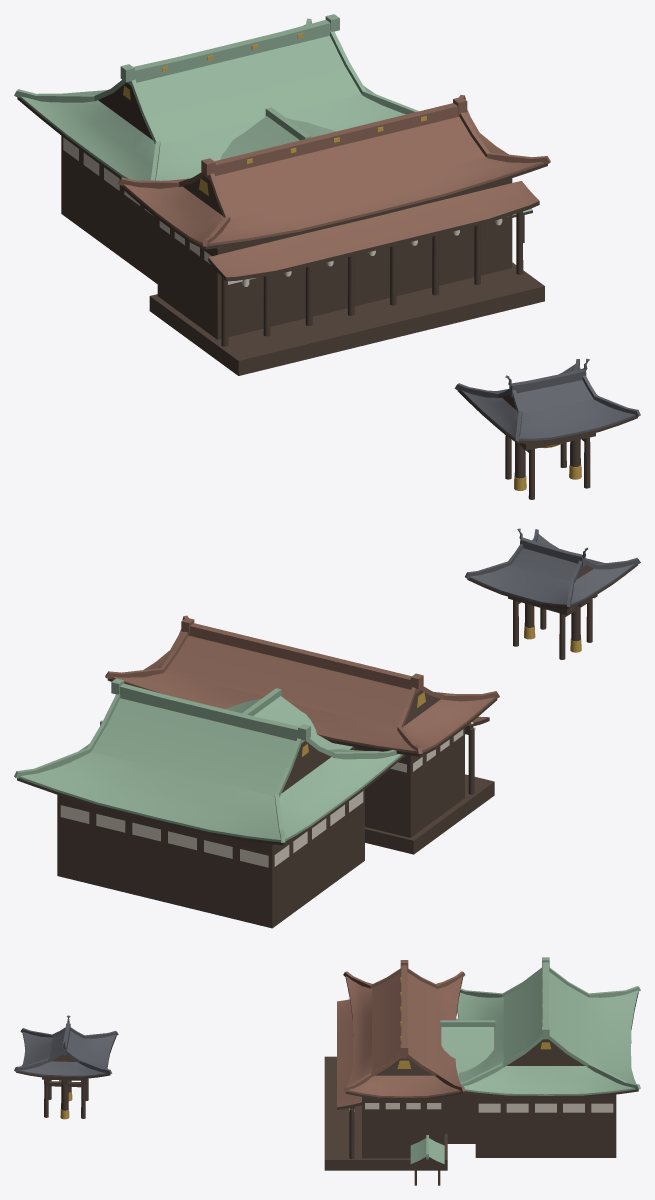
The model's file is osaka-tenmangu.glb.
The picture shows the model from 3 angles, top to bottom: view 1: azimuth 30°, elevation 25°; view 2: azimuth 150°, elevation 25°; view 3: azimuth 270°, elevation 25°; orthographic projection. The views are drawn at different scales.
Parts seen in each view (by area): view 1: Osaka Tenmangu; view 2: Osaka Tenmangu; view 3: Osaka Tenmangu.
Boxes of the visible parts, bbox=[...] form: Osaka Tenmangu: bbox=[14, 14, 640, 499]; Osaka Tenmangu: bbox=[14, 528, 640, 928]; Osaka Tenmangu: bbox=[14, 957, 640, 1185].
Size of the model in its own units: 39.16 by 17.8 by 81.07.
